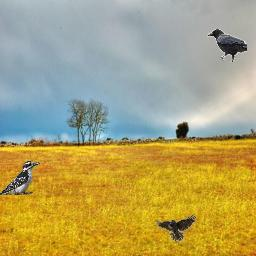Crow: (207, 29, 247, 62), (156, 214, 196, 242)
Woodpecker: (0, 161, 40, 195)
